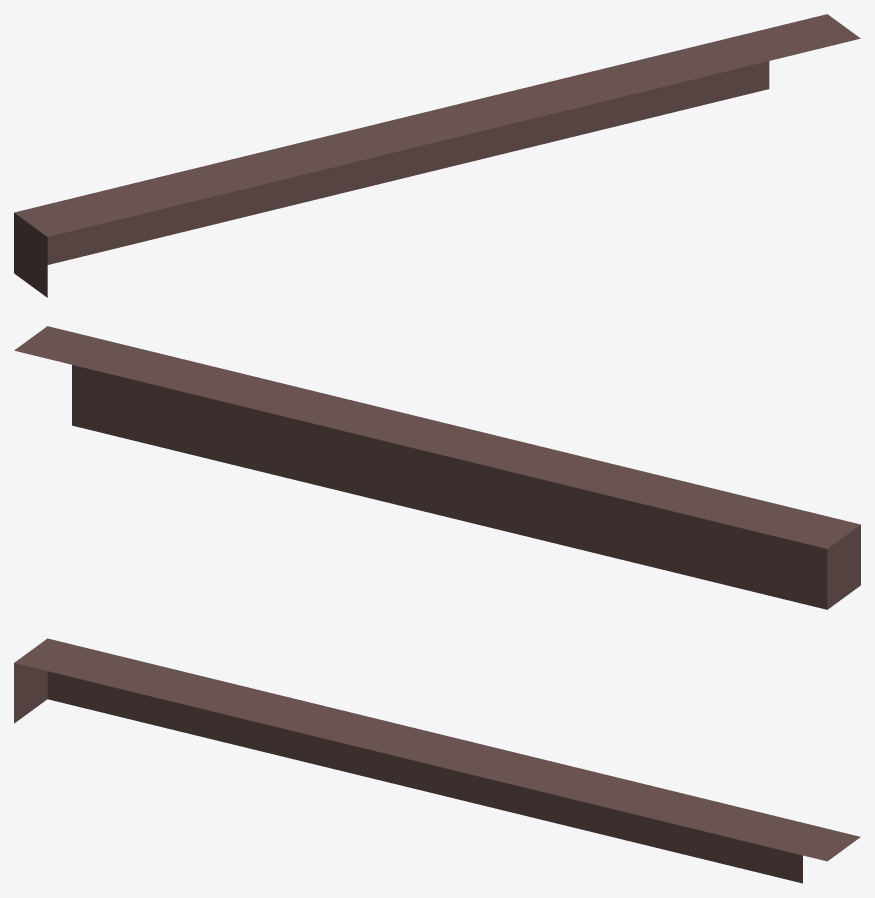
Rendered from Missile_Wall_1.fbx.
The picture shows the model from 3 angles, top to bottom: view 1: azimuth 30°, elevation 25°; view 2: azimuth 150°, elevation 25°; view 3: azimuth 330°, elevation 25°; orthographic projection.
Visible parts, largest first — view 1: Platform.031; view 2: Platform.031; view 3: Platform.031.
Boxes of the visible parts, x1,y1,x2,y2 form: Platform.031: [14, 14, 860, 297]; Platform.031: [14, 326, 860, 609]; Platform.031: [14, 638, 860, 883].
Size of the model in its own units: 4200 by 300 by 300.
